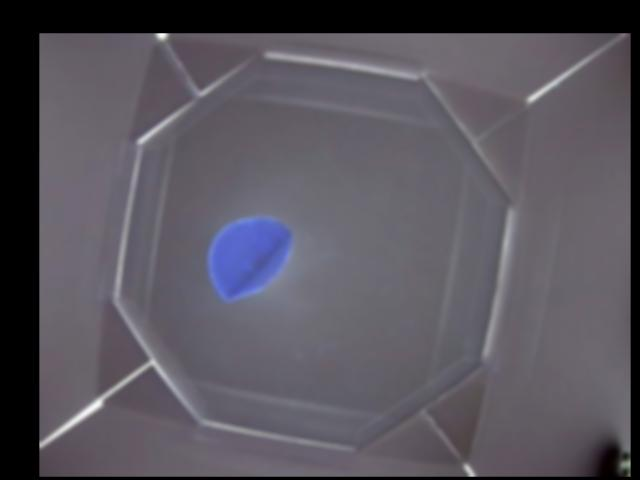Potato: (207, 215, 290, 301)
